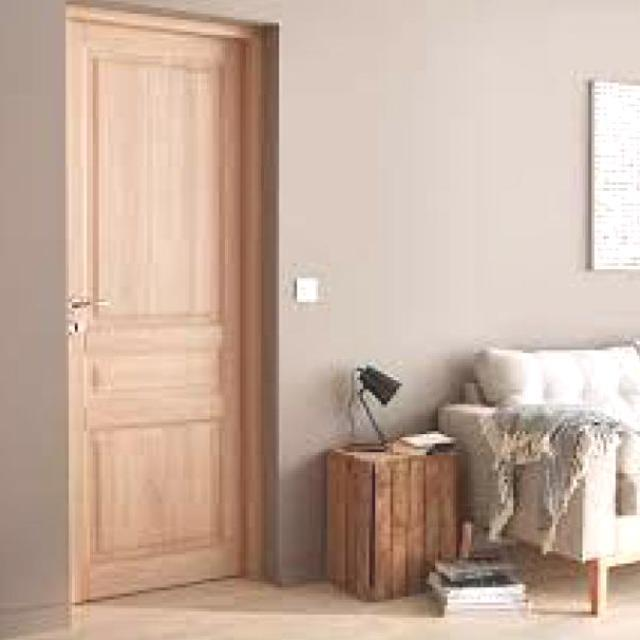door: (65, 9, 259, 603)
